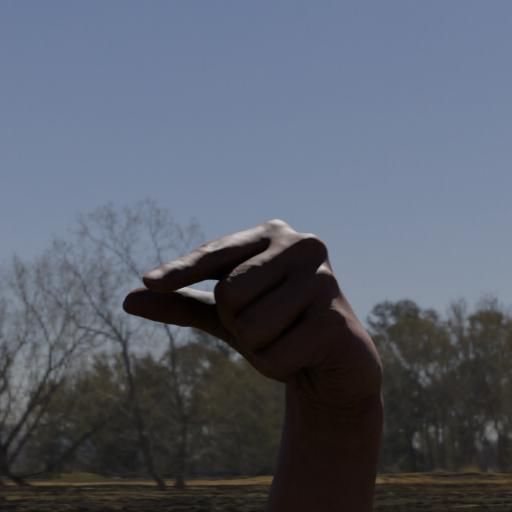G: (121, 220, 388, 418)
